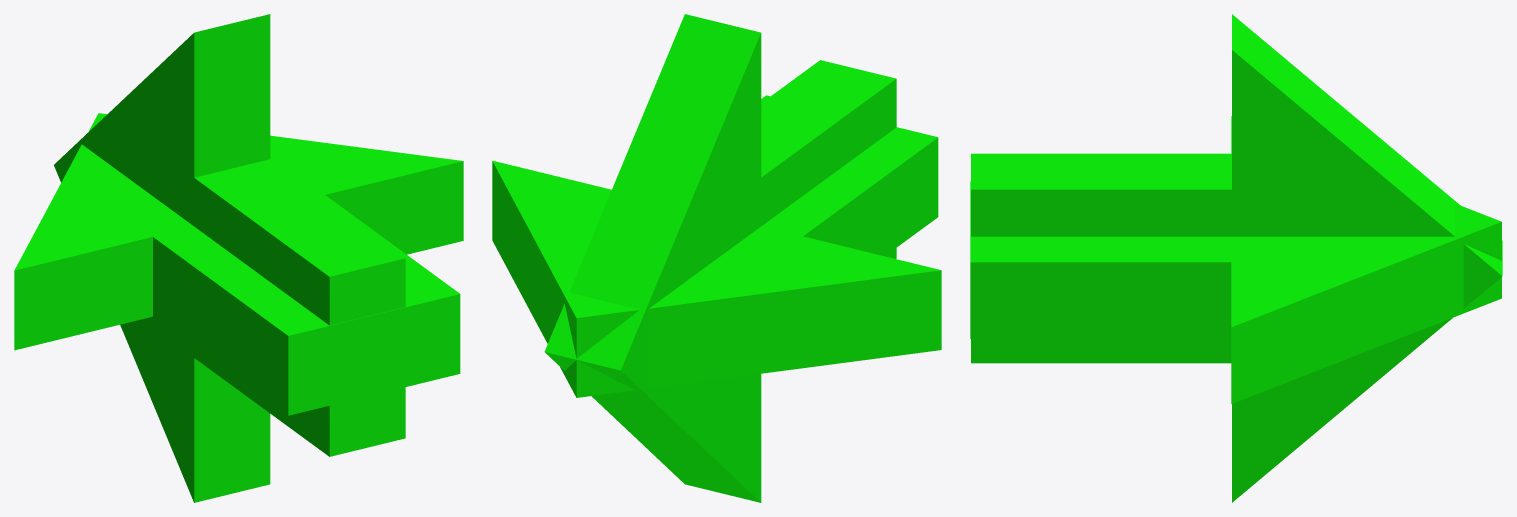
File: G_Point.fbx
The picture shows the model from 3 angles, left to right: view 1: azimuth 30°, elevation 25°; view 2: azimuth 150°, elevation 25°; view 3: azimuth 270°, elevation 25°; orthographic projection. The views are drawn at different scales.
Parts seen in each view (by area): view 1: Model; view 2: Model; view 3: Model.
Part boxes in pixels (<box>): Model: <box>14,14,463,502</box>; Model: <box>492,14,941,502</box>; Model: <box>970,14,1502,502</box>.
Size of the model in its own units: 155 by 155 by 165.
